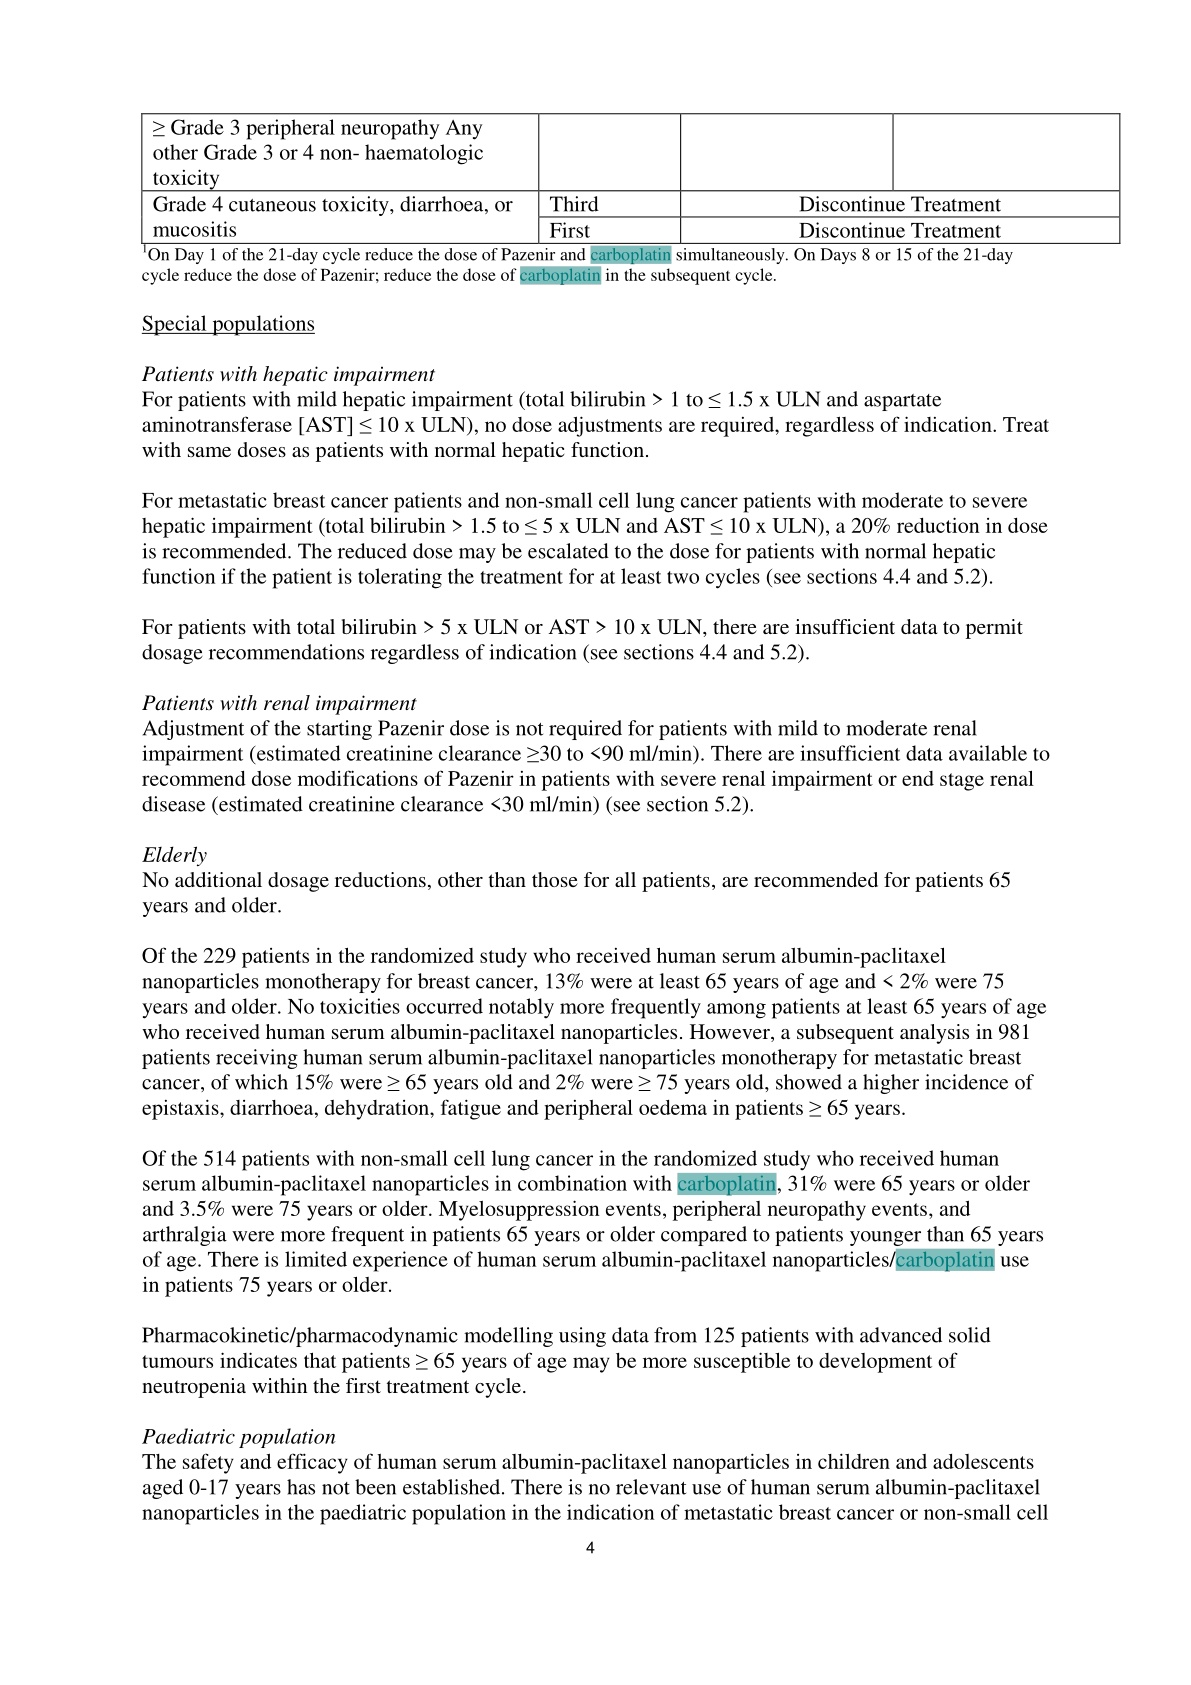merged_cells: (140, 113, 1121, 244)
